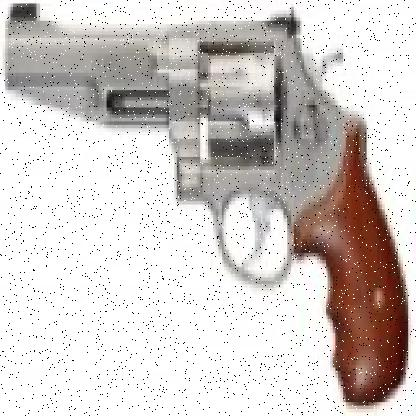pistol: (10, 10, 405, 412)
